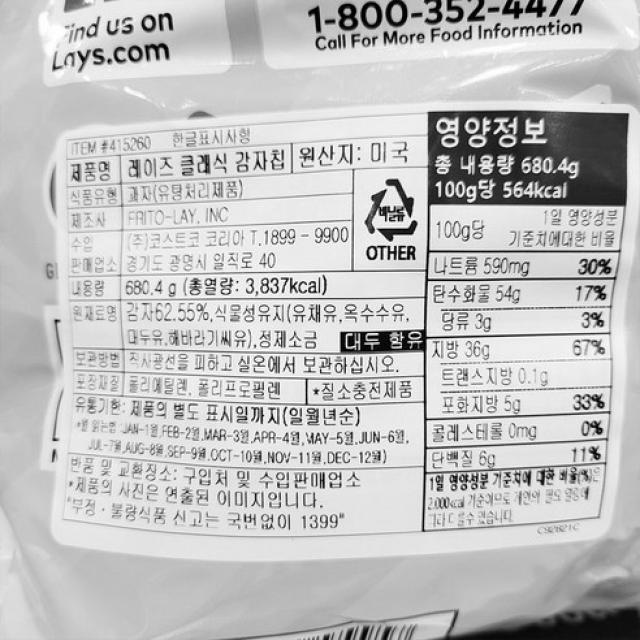Nutrition Label: (415, 99, 640, 538)
